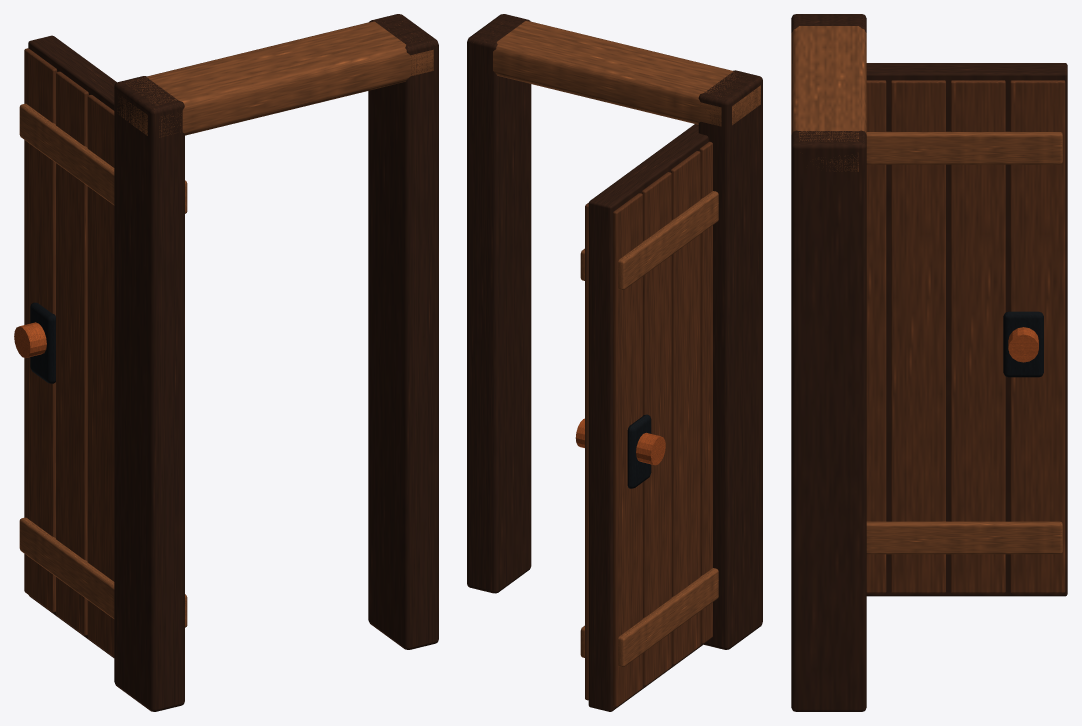
Rendered from porta-aberta.glb.
The picture shows the model from 3 angles, left to right: view 1: azimuth 30°, elevation 25°; view 2: azimuth 150°, elevation 25°; view 3: azimuth 270°, elevation 25°; orthographic projection. The views are drawn at different scales.
Visible parts, largest first — view 1: Batente de madeira.004, Tábua vertical.016, Travessa da folha.008, Chapa da maçaneta.004, Dobradiça.004; view 2: Batente de madeira.004, Tábua vertical.016, Travessa da folha.008, Chapa da maçaneta.004, Dobradiça.004; view 3: Tábua vertical.016, Batente de madeira.004, Travessa da folha.008, Chapa da maçaneta.004, Dobradiça.004.
Boxes of the visible parts, box(x1,y1,x2,y2) form: Batente de madeira.004: box(28, 14, 438, 711); Tábua vertical.016: box(24, 48, 114, 657); Travessa da folha.008: box(19, 21, 433, 627); Chapa da maçaneta.004: box(30, 302, 55, 383); Dobradiça.004: box(14, 322, 46, 358); Batente de madeira.004: box(467, 14, 762, 711); Tábua vertical.016: box(585, 141, 712, 706); Travessa da folha.008: box(493, 21, 760, 666); Chapa da maçaneta.004: box(627, 414, 651, 488); Dobradiça.004: box(575, 418, 665, 465); Tábua vertical.016: box(866, 80, 1065, 593); Batente de madeira.004: box(791, 14, 1067, 711); Travessa da folha.008: box(791, 26, 1062, 554); Chapa da maçaneta.004: box(1003, 311, 1043, 377); Dobradiça.004: box(1008, 327, 1038, 362).
Bounding box in the file's own units: 1.02 × 2 × 0.88.
5 materials, 5 textured.
